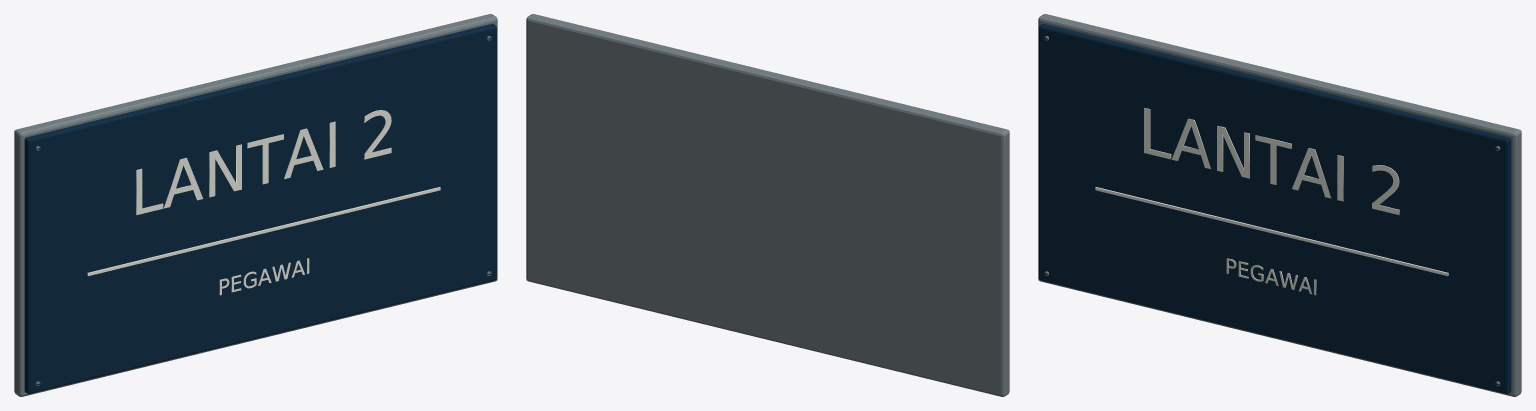
Rendered from OAA_Papan_Lantai_02.fbx.
The picture shows the model from 3 angles, left to right: view 1: azimuth 30°, elevation 25°; view 2: azimuth 150°, elevation 25°; view 3: azimuth 330°, elevation 25°; orthographic projection.
Visible parts, largest first — view 1: Body; view 2: Body; view 3: Body.
Part boxes in pixels (left/top/right/bottom): Body: left=14, top=14, right=497, bottom=396; Body: left=526, top=14, right=1009, bottom=396; Body: left=1038, top=14, right=1521, bottom=396.
Size of the model in its own units: 0.72 by 0.38 by 0.0315.
